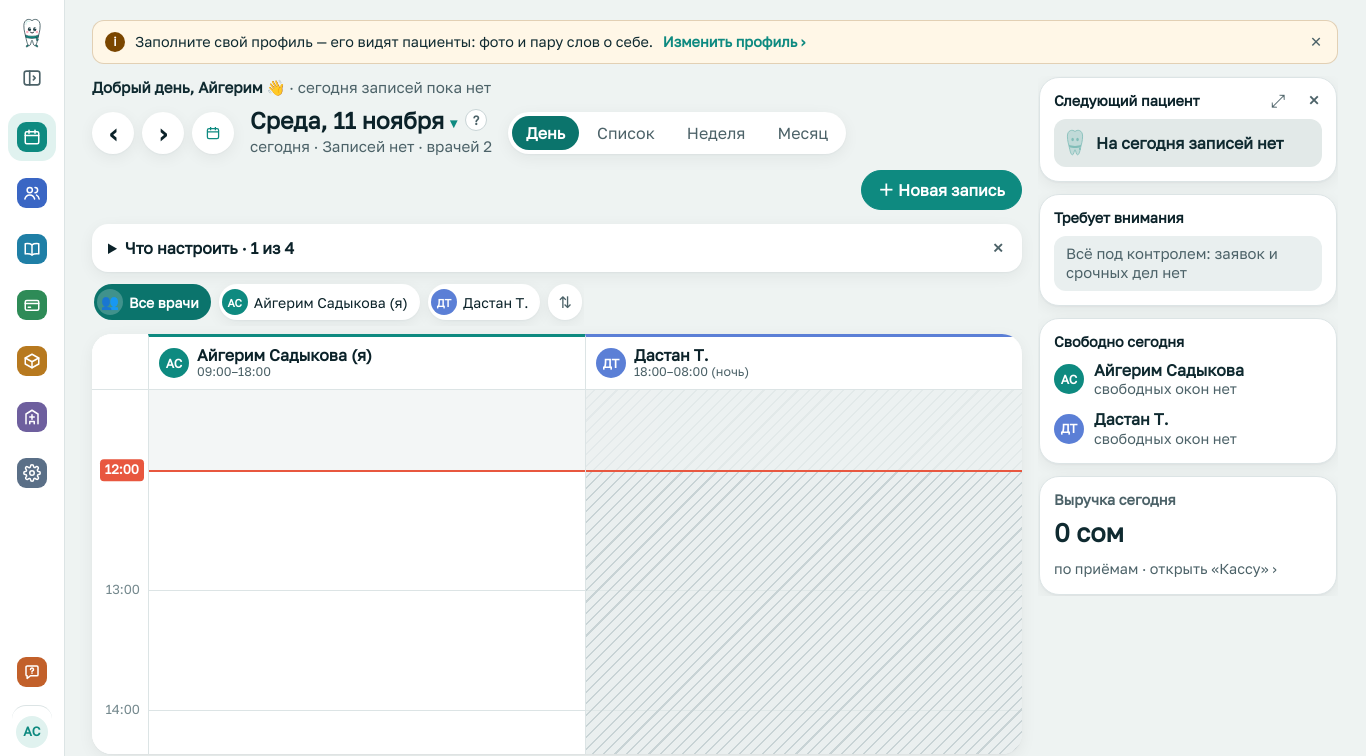
Test: сетка дня с ночным врачом: часы «18:00–08:00 (ночь)», сутки целиком, приём через полночь в обоих днях
The width and height of the screenshot is (1366, 756).
(page scrolled)
Click the button named "Следующий день" at (163, 132), box [142, 112, 184, 154]
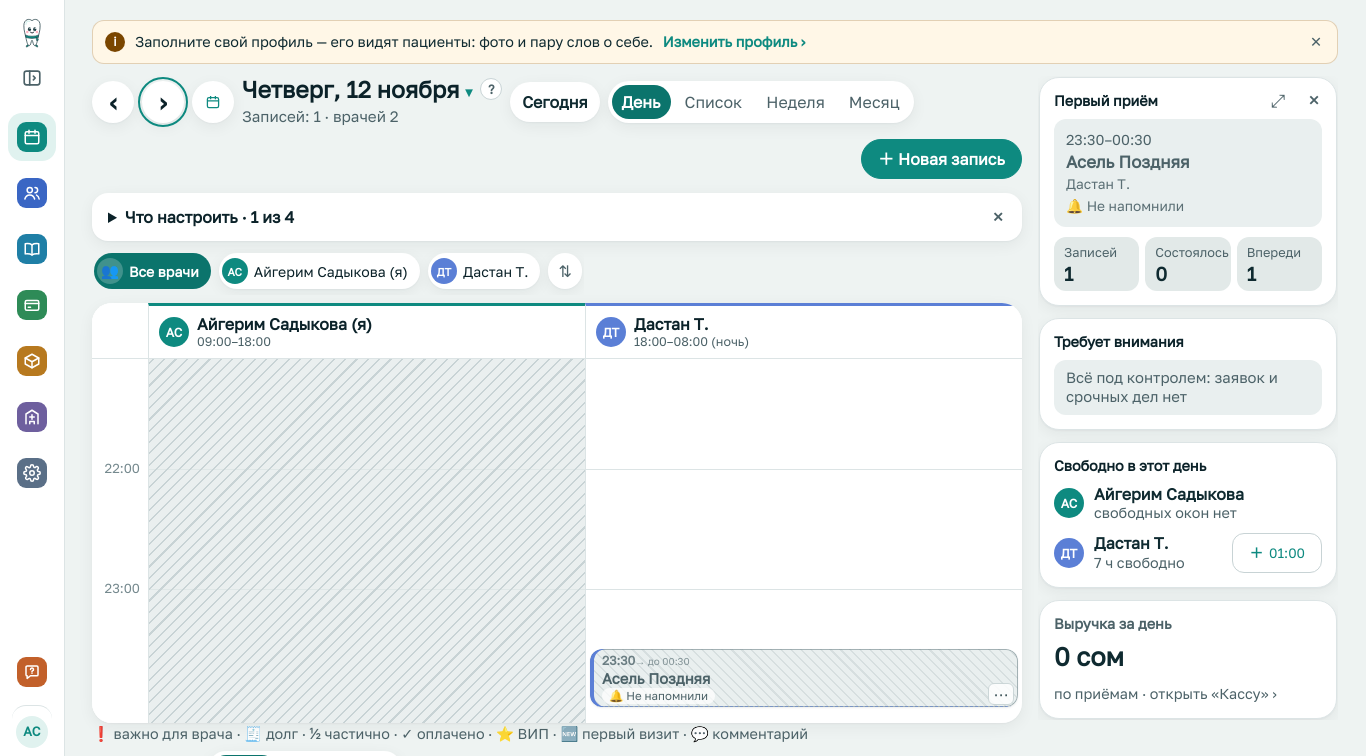
Check: the text "23:00" is shown, box [104, 580, 140, 599]
Check: the text "→ до 00:30" is shown, box [635, 656, 690, 668]
Check: the text "Записей: 1 · врачей 2" is shown, box [242, 107, 398, 125]
